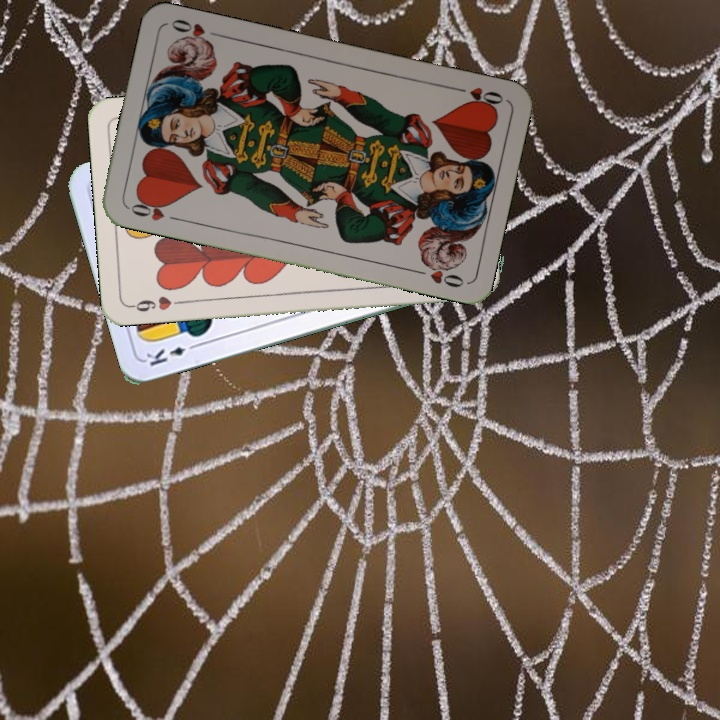EK: (142, 339, 201, 369)
H9: (126, 292, 185, 315)
HO: (125, 194, 183, 224), (449, 82, 506, 111)
